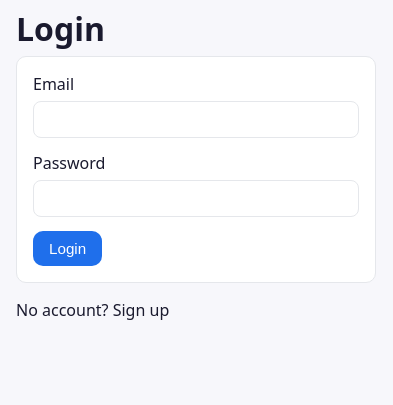
Test case: Login page › shows an error message on invalid credentials
This screenshot has width=393, height=405.
Type "wrong@example.com" into the field labelled "Email". click: (196, 120)
box: [33,101,359,138]
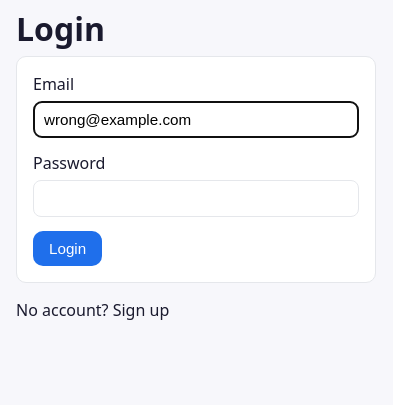
Type "wrongpassword" into the password field labelled "Password". click: (196, 198)
box: [33,180,359,217]
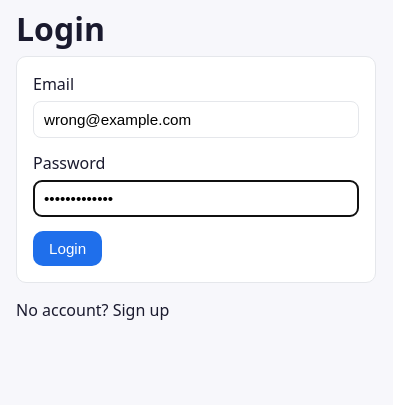
Click the button "Login". click: (68, 248)
box: [33,231,102,266]
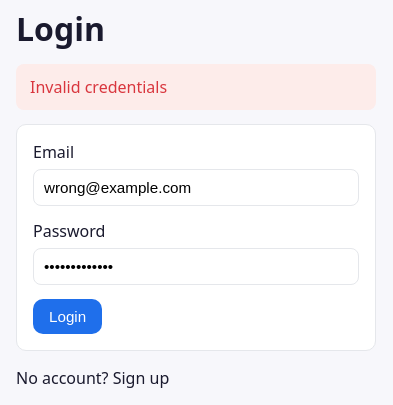
Check: the message reads "Invalid credentials", box [30,76,167,98]
